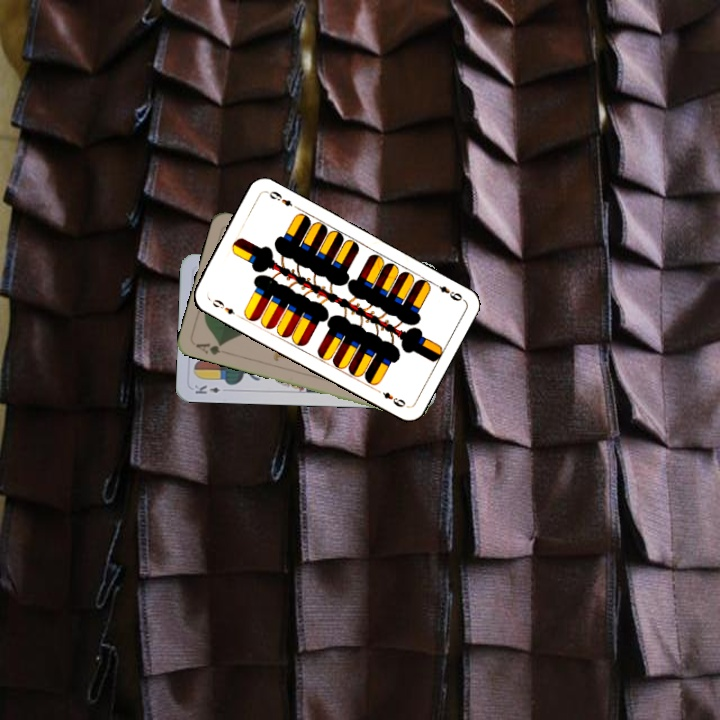E9: (205, 294, 242, 320), (428, 278, 465, 304)
EK: (191, 381, 223, 397)
GA: (192, 339, 231, 358)
